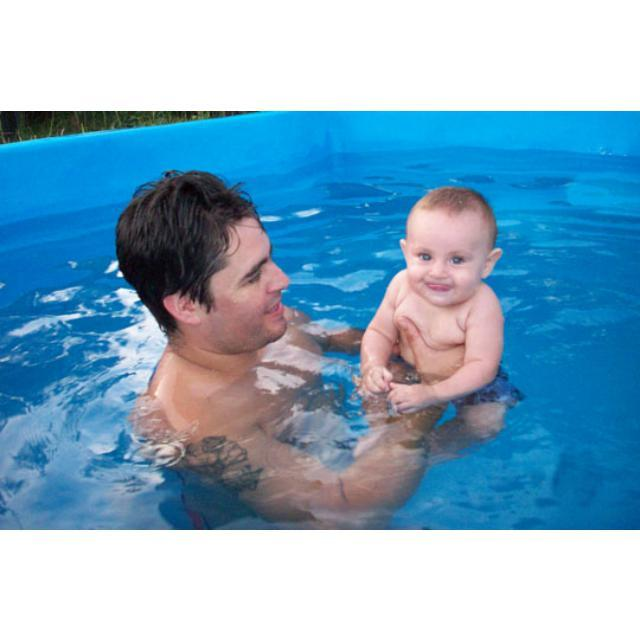human: (109, 165, 402, 514), (361, 191, 513, 463)
